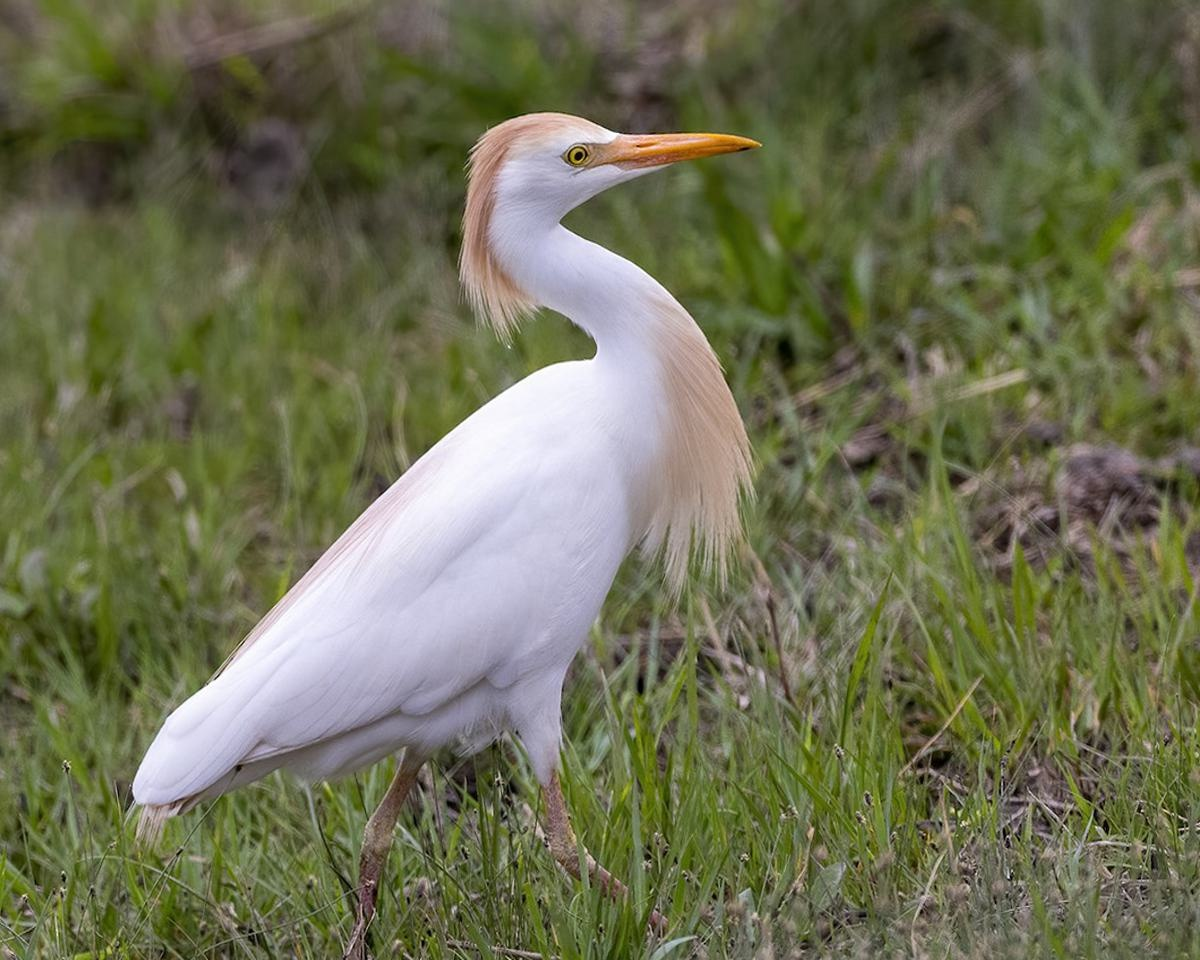egret: (164, 82, 778, 878)
